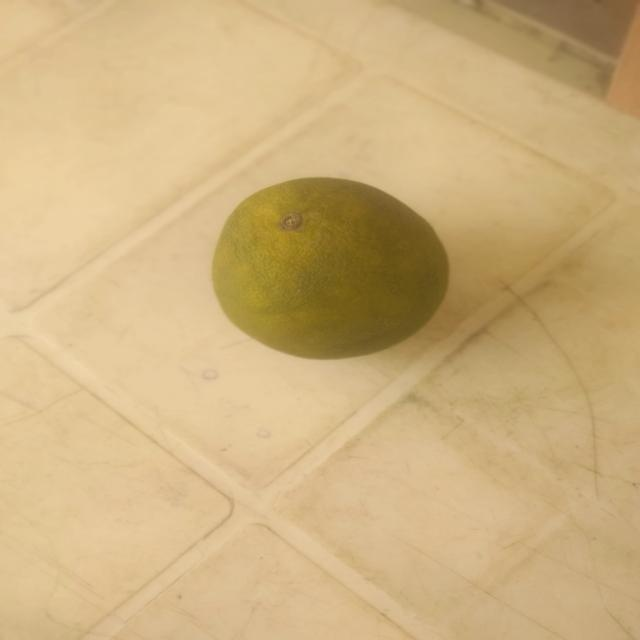agrume: (188, 167, 473, 394)
